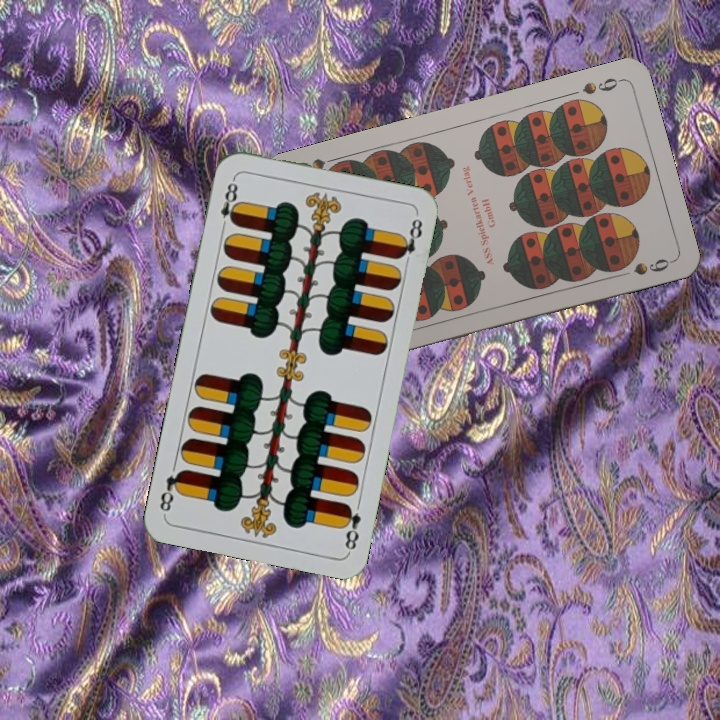E8: (216, 174, 242, 233), (337, 499, 364, 554)
S9: (578, 73, 625, 98)
